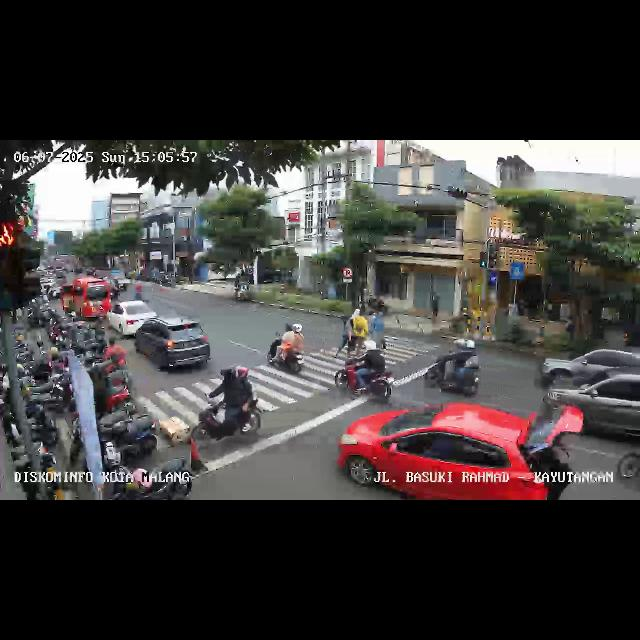car: (336, 400, 584, 500), (536, 369, 640, 435), (134, 316, 212, 372), (541, 346, 640, 379), (62, 276, 110, 320), (108, 300, 156, 338)
motorcycle: (198, 364, 264, 446), (335, 343, 401, 402), (423, 341, 483, 399), (266, 324, 308, 376), (112, 280, 120, 304)
person: (334, 307, 360, 357), (369, 308, 388, 348), (353, 306, 367, 358)
